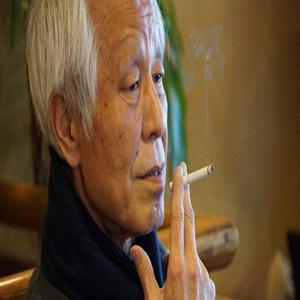cigarette: (169, 162, 214, 189)
